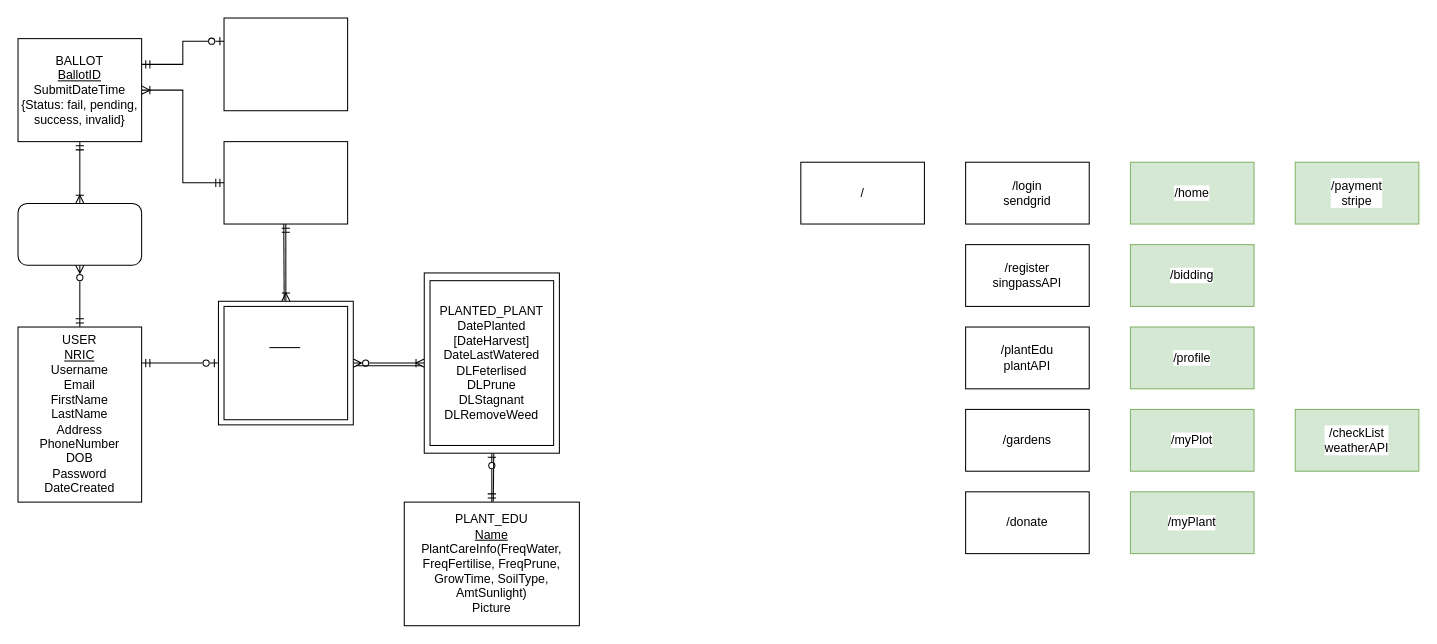
Some shapes in this 1437 by 644 pixel diagram are drawn without their labels. The centre of each missing label's shape, as x and y in pixels:
"GARDEN Location Name NumPlots" goes at [285,182].
"PAYMENT PaymentID Date Amount PaymentMethod" goes at [285,64].
"PLOT PlotID Occupied? DateAssigned LeaseLength [LeaseRemain]" goes at [285,362].
"WINDOW StartDate EndDate" goes at [79,233].
